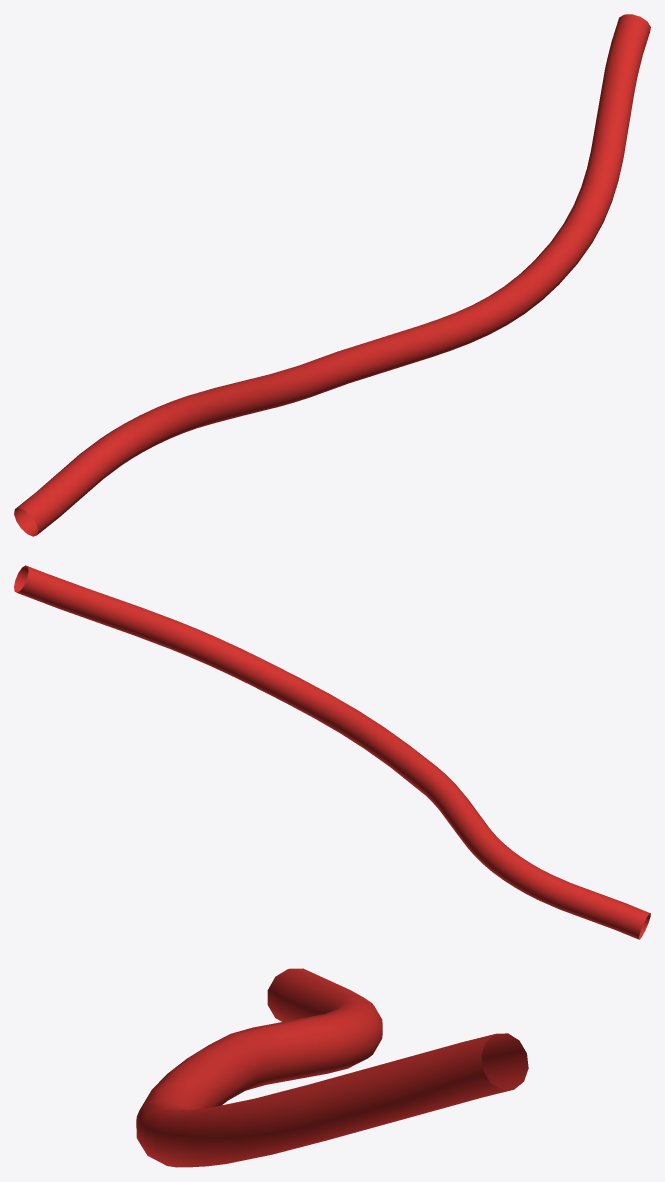
Rendered from circulatorio-deep-external-pudendal-artery-l.glb.
3 views of the same model, one above another, from view 1: azimuth 30°, elevation 25°; view 2: azimuth 150°, elevation 25°; view 3: azimuth 270°, elevation 25° (orthographic). The views are drawn at different scales.
Parts seen in each view (by area): view 1: Deep external pudendal artery.l; view 2: Deep external pudendal artery.l; view 3: Deep external pudendal artery.l.
Part boxes in pixels (x1=…): Deep external pudendal artery.l: x1=14, y1=14, x2=650, y2=536; Deep external pudendal artery.l: x1=14, y1=565, x2=650, y2=939; Deep external pudendal artery.l: x1=136, y1=968, x2=528, y2=1167.
Bounding box in the file's own units: 0.0321 × 0.0142 × 0.00932.
